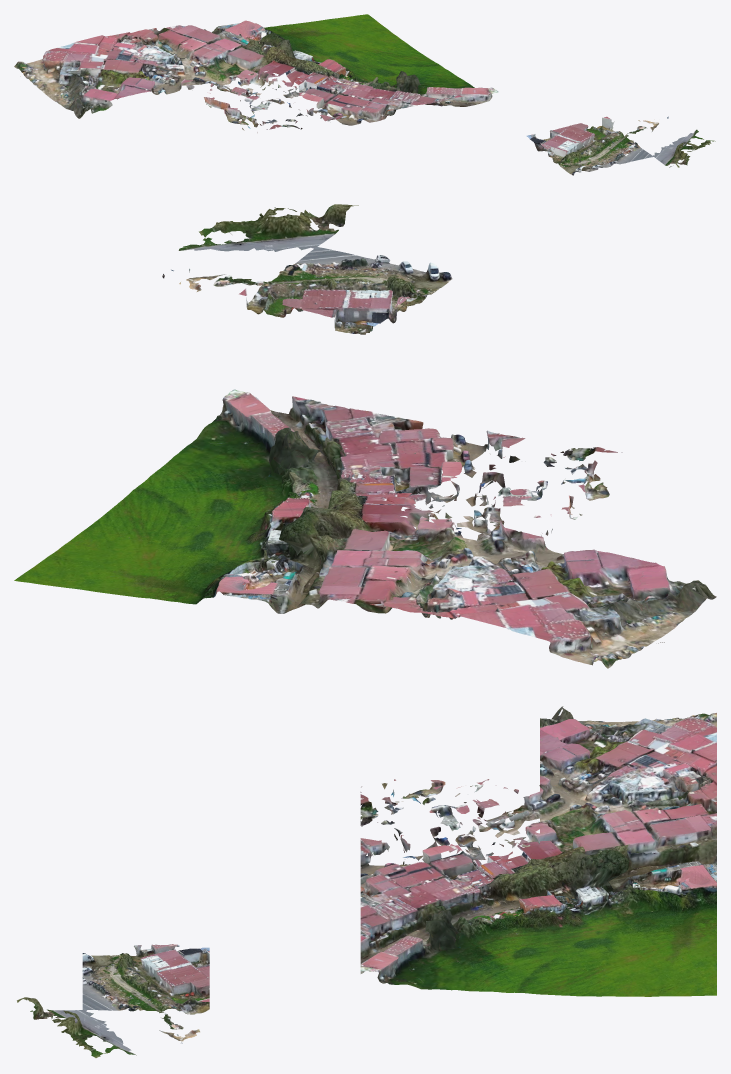
The model's file is bairro_05.glb.
The picture shows the model from 3 angles, top to bottom: view 1: azimuth 30°, elevation 25°; view 2: azimuth 150°, elevation 25°; view 3: azimuth 270°, elevation 25°; orthographic projection. The views are drawn at different scales.
Parts seen in each view (by area): view 1: bairro_05; view 2: bairro_05; view 3: bairro_05.
Part boxes in pixels (x1,y1,x2,y2): bairro_05: [14, 14, 715, 175]; bairro_05: [14, 204, 716, 668]; bairro_05: [17, 706, 716, 1057].
Bounding box in the file's own units: 190 × 17.7 × 180.
Materials: 1 (1 with a texture image).
